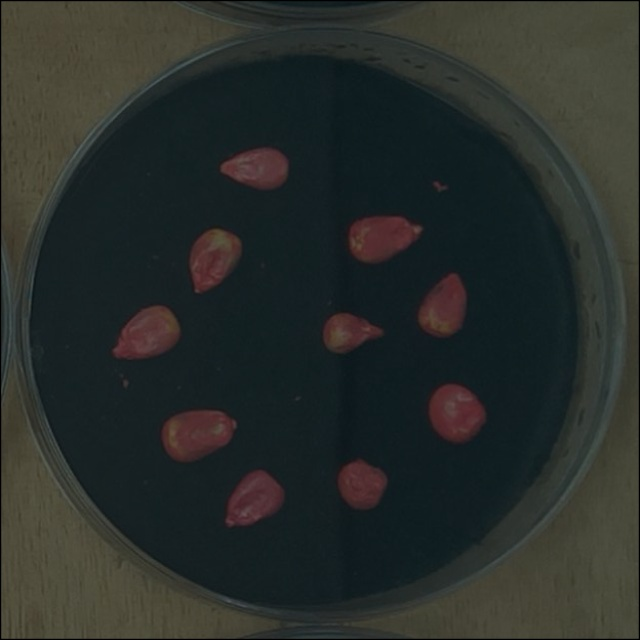Zea mays: (156, 401, 244, 469), (104, 296, 187, 366), (340, 207, 429, 272), (182, 220, 250, 303), (219, 461, 292, 536), (419, 375, 491, 450), (411, 264, 474, 344), (212, 139, 296, 198), (315, 303, 392, 363), (331, 452, 395, 519)
